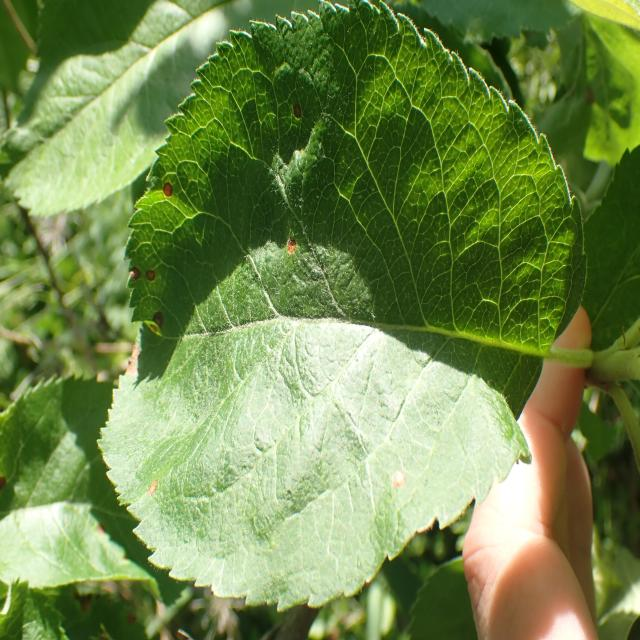frog-eye-leaf-spot: (96, 0, 588, 615)
